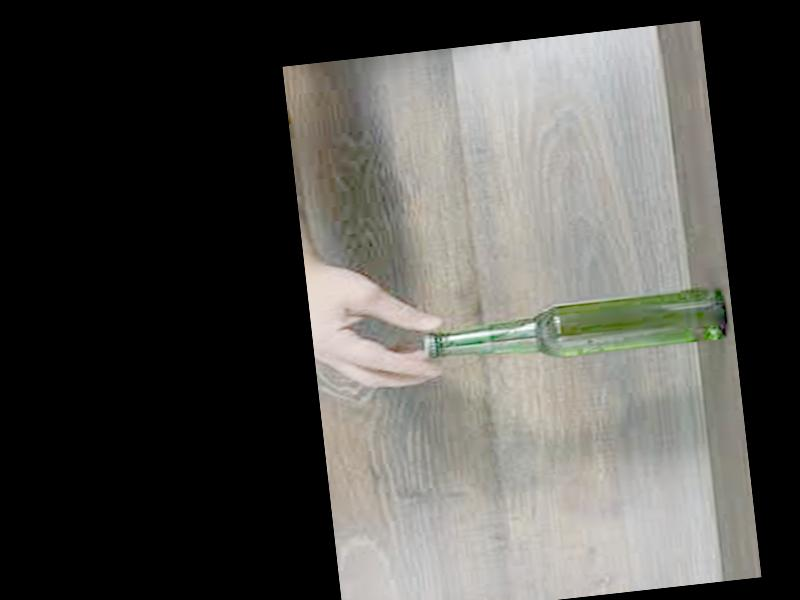Beer: (419, 284, 727, 372)
